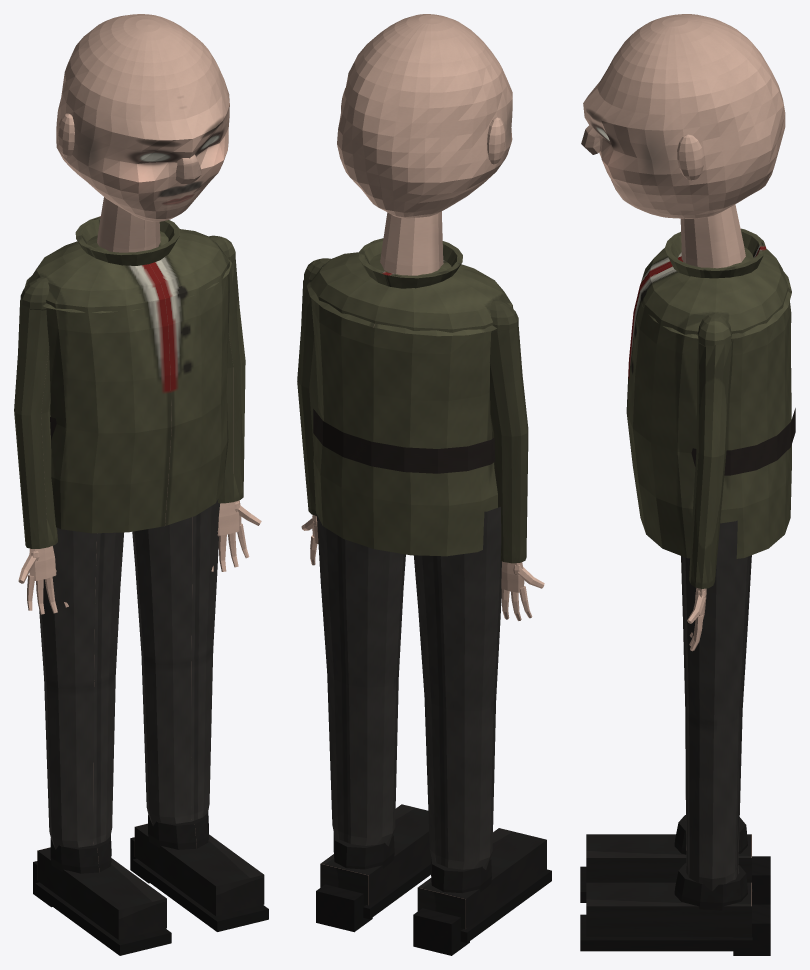
The model's file is fig_3.glb.
3 renders of one model, left to right at view 1: azimuth 30°, elevation 25°; view 2: azimuth 150°, elevation 25°; view 3: azimuth 270°, elevation 25°, orthographic.
Visible parts, largest first — view 1: figure; view 2: figure; view 3: figure.
Boxes of the visible parts, x1,y1,x2,y2 form: figure: (14,14,268,955); figure: (297,14,551,955); figure: (580,14,795,955).
Size of the model in its own units: 0.716 by 2.5 by 0.541.
Materials: 2 (2 with a texture image).
